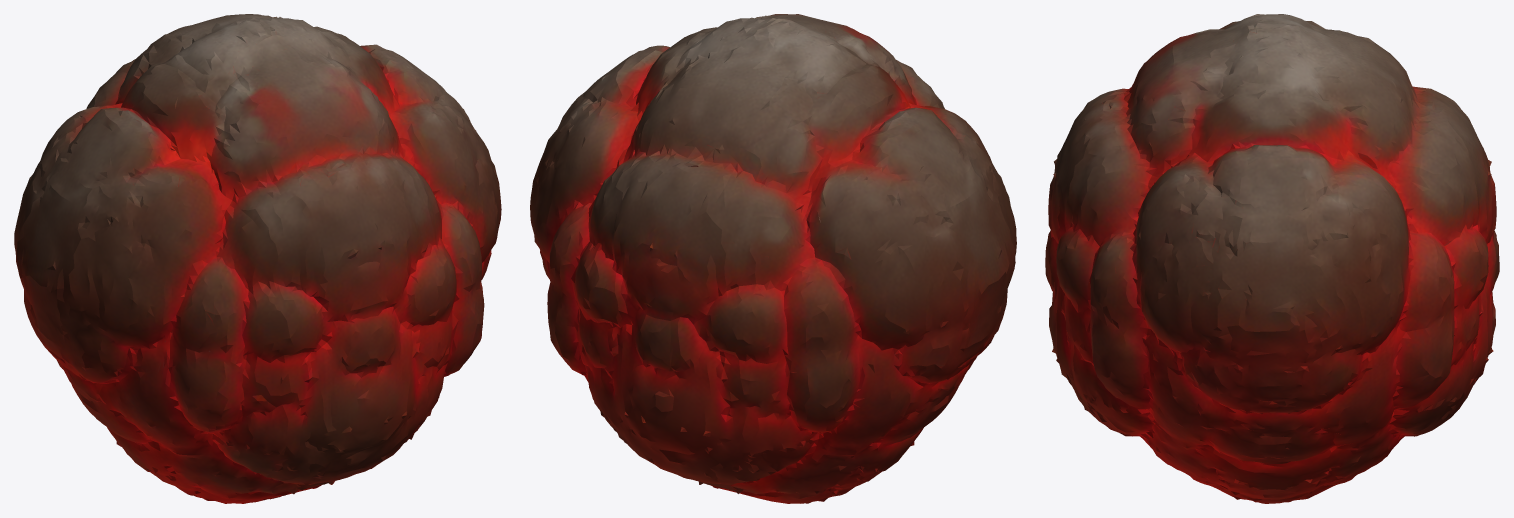
File: meteorite_magma.glb
3 renders of one model, left to right at view 1: azimuth 30°, elevation 25°; view 2: azimuth 150°, elevation 25°; view 3: azimuth 270°, elevation 25°, orthographic.
Visible parts, largest first — view 1: meteorite_magma; view 2: meteorite_magma; view 3: meteorite_magma.
Boxes of the visible parts, x1,y1,x2,y2 form: meteorite_magma: (14, 14, 501, 503); meteorite_magma: (530, 14, 1016, 503); meteorite_magma: (1045, 14, 1499, 503).
Bounding box in the file's own units: 1.9 × 1.89 × 1.7.
Materials: 1 (1 with a texture image).
